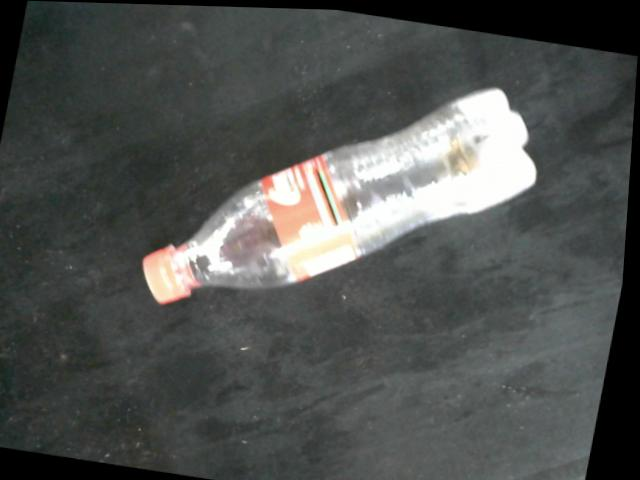bottle: (144, 84, 539, 304)
